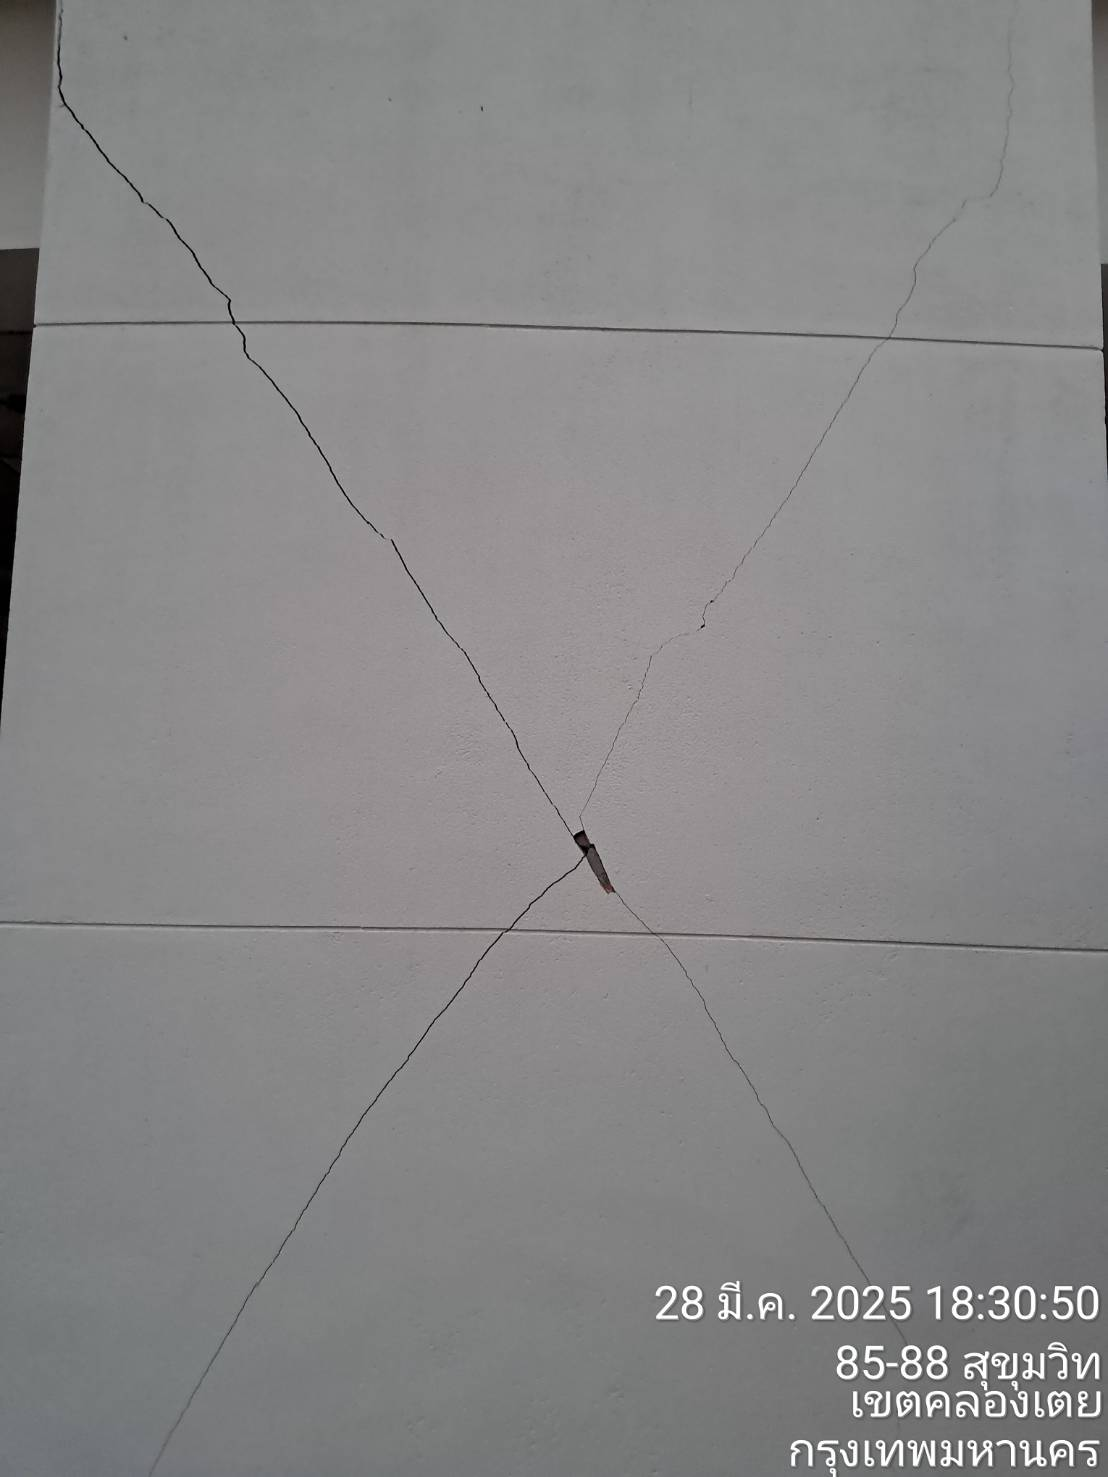Medium: (94, 122, 971, 1256)
